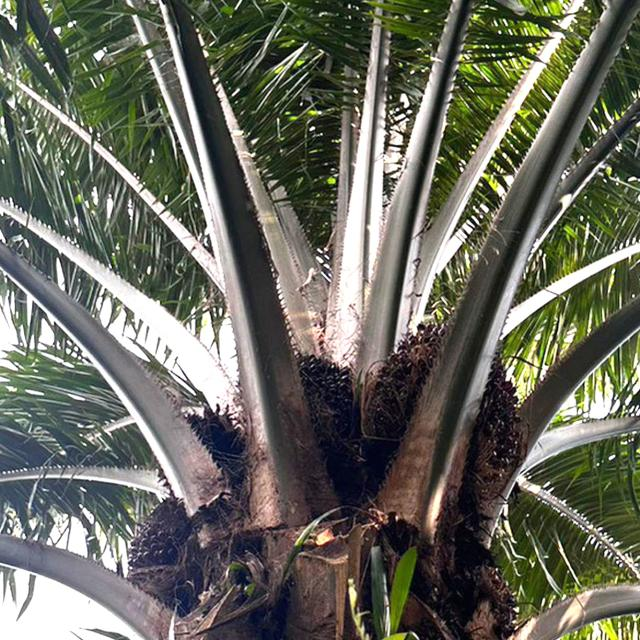almost: (370, 307, 522, 498), (276, 342, 364, 465), (126, 489, 212, 604)
